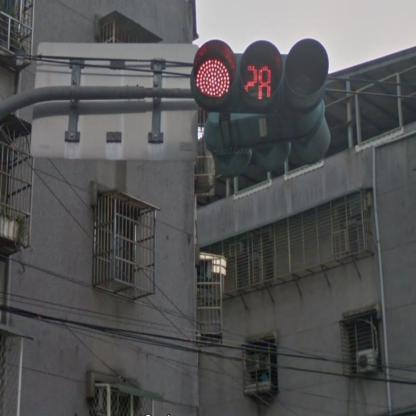Red Light: (192, 40, 332, 112)
